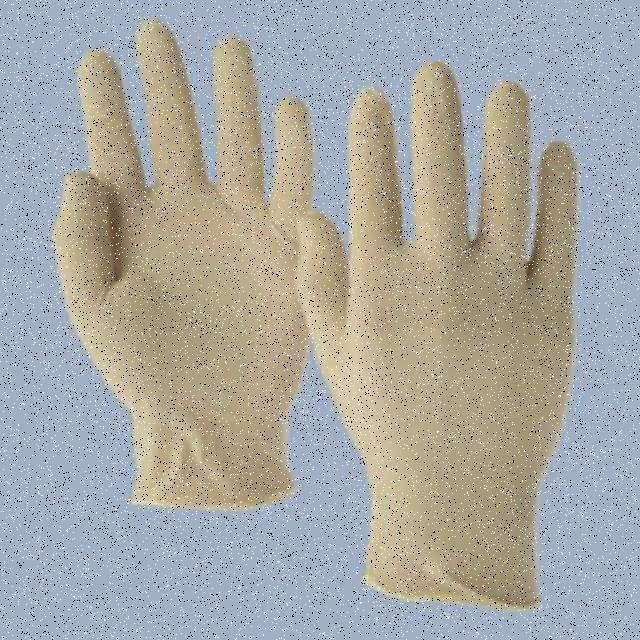Guantes: (55, 31, 316, 500), (328, 59, 547, 616)
